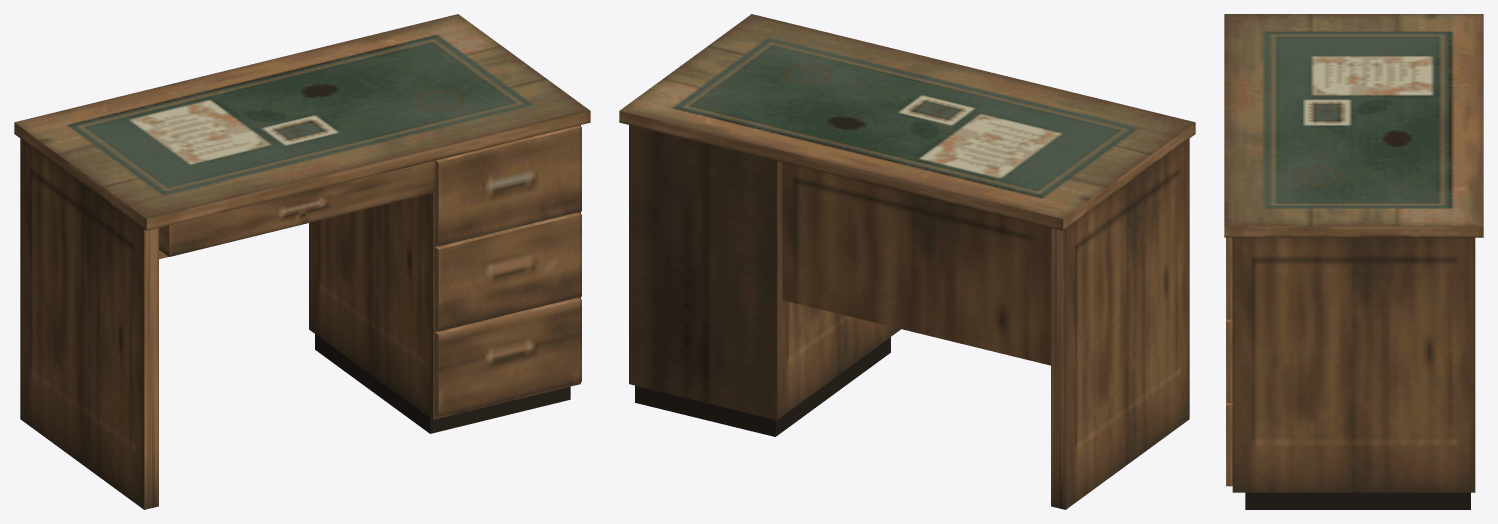
Rendered from desk_wooden.obj.
3 renders of one model, left to right at view 1: azimuth 30°, elevation 25°; view 2: azimuth 150°, elevation 25°; view 3: azimuth 270°, elevation 25°, orthographic. The views are drawn at different scales.
Visible parts, largest first — view 1: desk_wooden; view 2: desk_wooden; view 3: desk_wooden.
Part boxes in pixels (x1,y1,x2,y2): desk_wooden: [14, 14, 590, 509]; desk_wooden: [619, 14, 1195, 509]; desk_wooden: [1224, 14, 1483, 509].
Bounding box in the file's own units: 1.2 × 0.76 × 0.62.
1 material, 1 textured.
